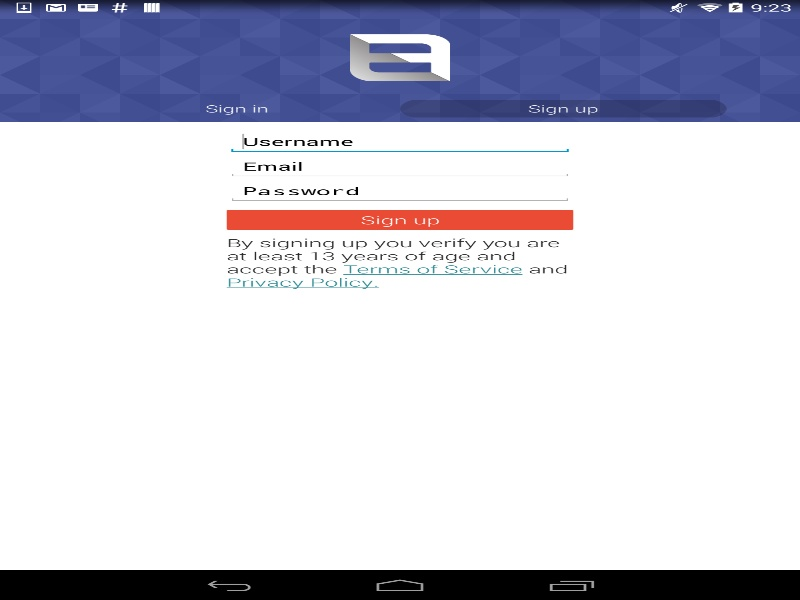Button: (226, 209, 573, 230)
Input: (226, 129, 573, 154), (226, 178, 573, 203), (226, 154, 573, 178)
